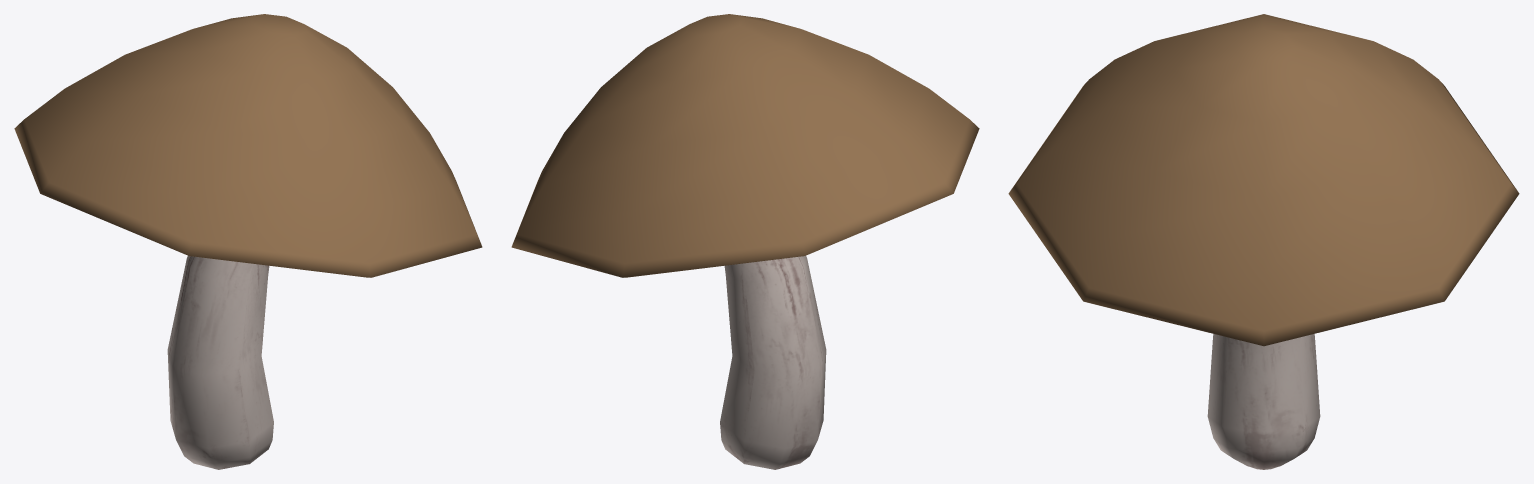
File: Mushroom_medium_3.fbx
The picture shows the model from 3 angles, left to right: view 1: azimuth 30°, elevation 25°; view 2: azimuth 150°, elevation 25°; view 3: azimuth 270°, elevation 25°; orthographic projection. The views are drawn at different scales.
Visible parts, largest first — view 1: Mushroom_medium_3; view 2: Mushroom_medium_3; view 3: Mushroom_medium_3.
Part boxes in pixels (<box>): Mushroom_medium_3: <box>14,14,482,469</box>; Mushroom_medium_3: <box>511,14,979,469</box>; Mushroom_medium_3: <box>1008,14,1519,469</box>.
Size of the model in its own units: 15.19 by 15.04 by 15.51.
